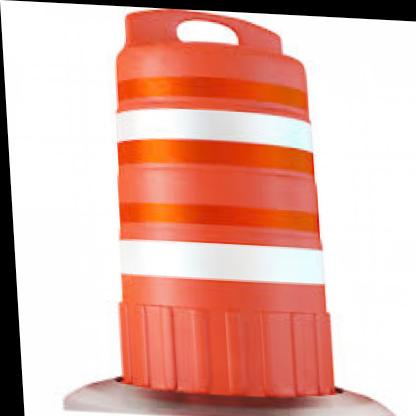obstacle: (93, 24, 342, 411)
